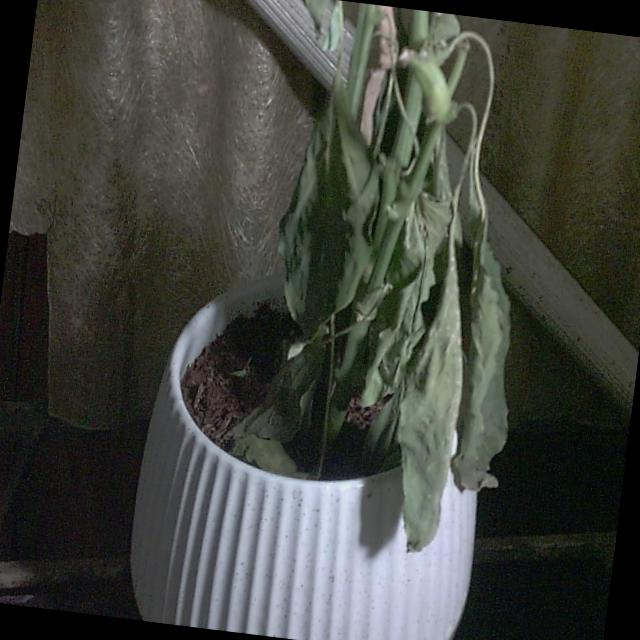Leaf: (262, 69, 391, 366), (378, 252, 478, 558), (446, 217, 536, 498)
